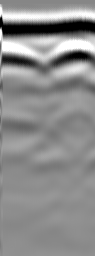steel: (46, 41, 95, 67), (1, 42, 43, 69)
